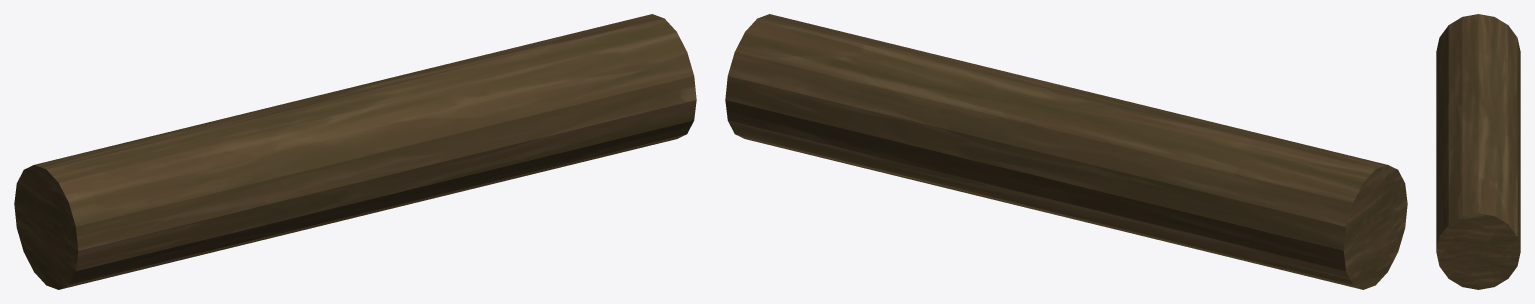
The model's file is log.fbx.
3 views of the same model, side by side, from view 1: azimuth 30°, elevation 25°; view 2: azimuth 150°, elevation 25°; view 3: azimuth 270°, elevation 25° (orthographic). The views are drawn at different scales.
Visible parts, largest first — view 1: Log; view 2: Log; view 3: Log.
Part boxes in pixels (x1,y1,x2,y2): Log: (14, 14, 696, 289); Log: (725, 14, 1407, 289); Log: (1436, 14, 1520, 289).
Bounding box in the file's own units: 2 × 0.3586 × 0.3586.
